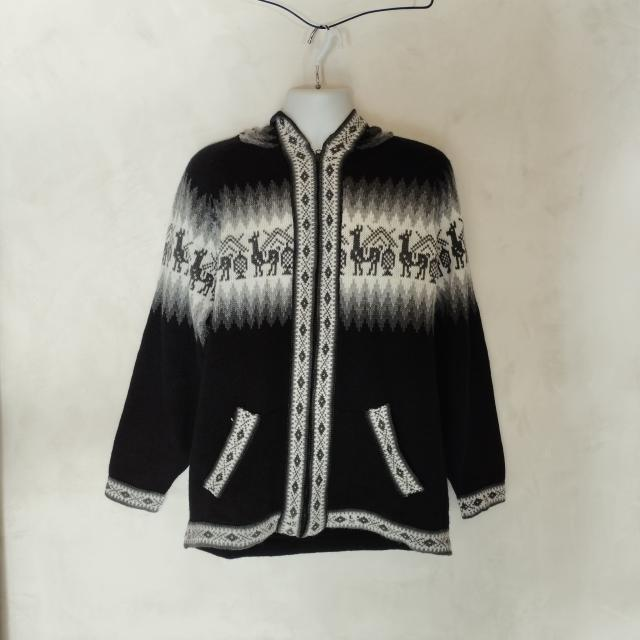Chompa: (105, 102, 507, 557)
